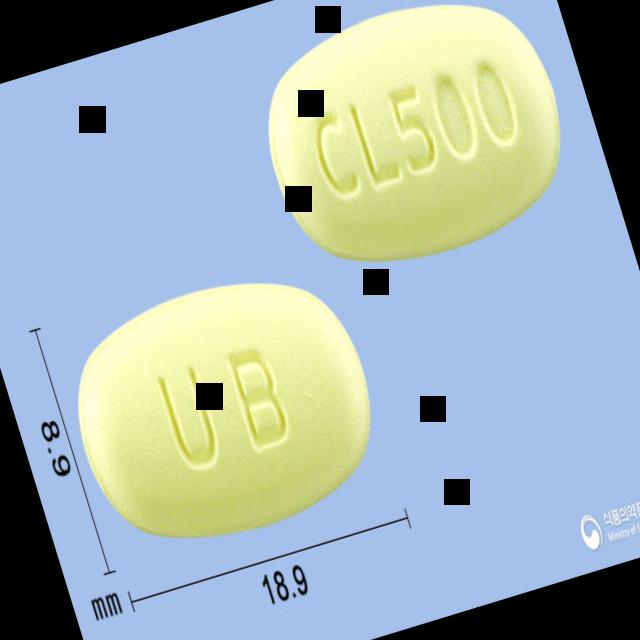Besivo: (49, 247, 402, 571), (240, 0, 588, 289)
